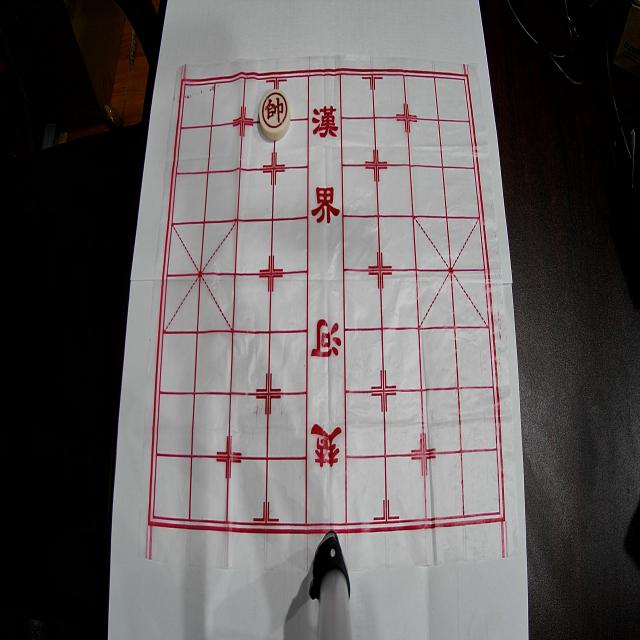red-general: (260, 89, 290, 140)
